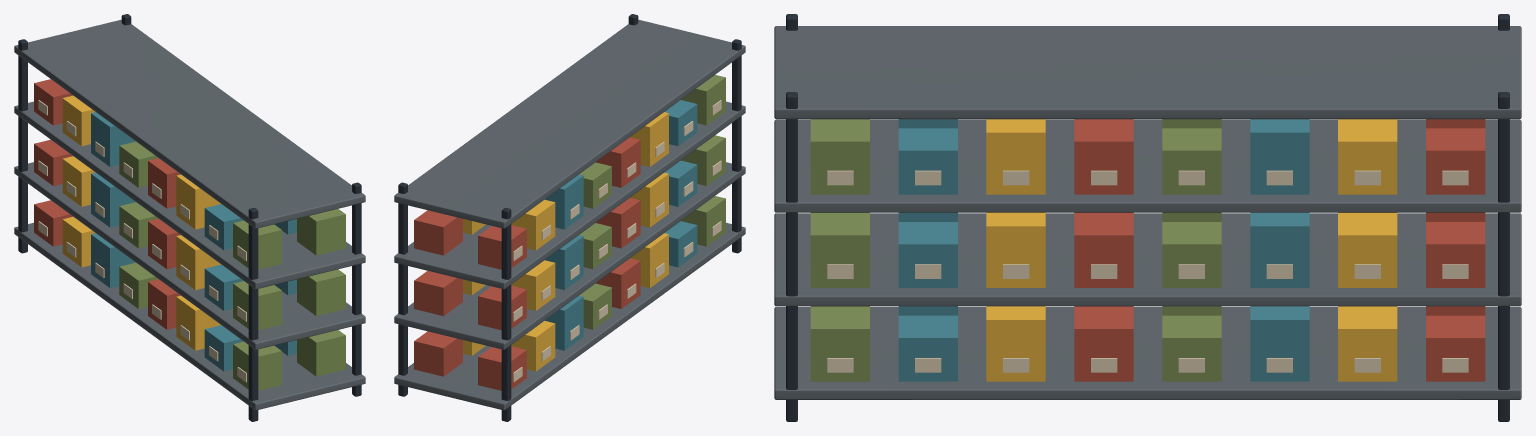
Rendered from retail-shelf.glb.
The picture shows the model from 3 angles, left to right: view 1: azimuth 30°, elevation 25°; view 2: azimuth 150°, elevation 25°; view 3: azimuth 270°, elevation 25°; orthographic projection. The views are drawn at different scales.
Parts seen in each view (by area): view 1: shell-metal, product-detail-green, product-detail-blue, product-detail-yellow, product-detail-red, shell-navy, label-detail-cream; view 2: shell-metal, product-detail-red, product-detail-yellow, product-detail-green, product-detail-blue, shell-navy, label-detail-cream; view 3: shell-metal, product-detail-green, product-detail-red, product-detail-blue, product-detail-yellow, label-detail-cream, shell-navy.
Part boxes in pixels (bbox=[...]): shell-metal: bbox=[14, 19, 365, 410]; product-detail-green: bbox=[119, 141, 345, 390]; product-detail-blue: bbox=[91, 112, 296, 371]; product-detail-yellow: bbox=[62, 95, 220, 350]; product-detail-red: bbox=[34, 79, 180, 329]; shell-navy: bbox=[18, 14, 361, 421]; label-detail-cream: bbox=[38, 100, 246, 382]; shell-metal: bbox=[394, 19, 745, 410]; product-detail-red: bbox=[414, 137, 640, 390]; product-detail-yellow: bbox=[463, 112, 668, 371]; product-detail-green: bbox=[579, 75, 725, 329]; product-detail-blue: bbox=[545, 100, 697, 350]; shell-navy: bbox=[398, 14, 741, 421]; label-detail-cream: bbox=[513, 100, 721, 382]; shell-metal: bbox=[774, 26, 1521, 399]; product-detail-green: bbox=[810, 119, 1221, 381]; product-detail-red: bbox=[1074, 119, 1485, 381]; product-detail-blue: bbox=[898, 119, 1309, 381]; product-detail-yellow: bbox=[986, 119, 1397, 381]; label-detail-cream: bbox=[827, 170, 1468, 372]; shell-navy: bbox=[786, 14, 1509, 421].
Size of the model in its own units: 0.9 by 1.64 by 3.4.
